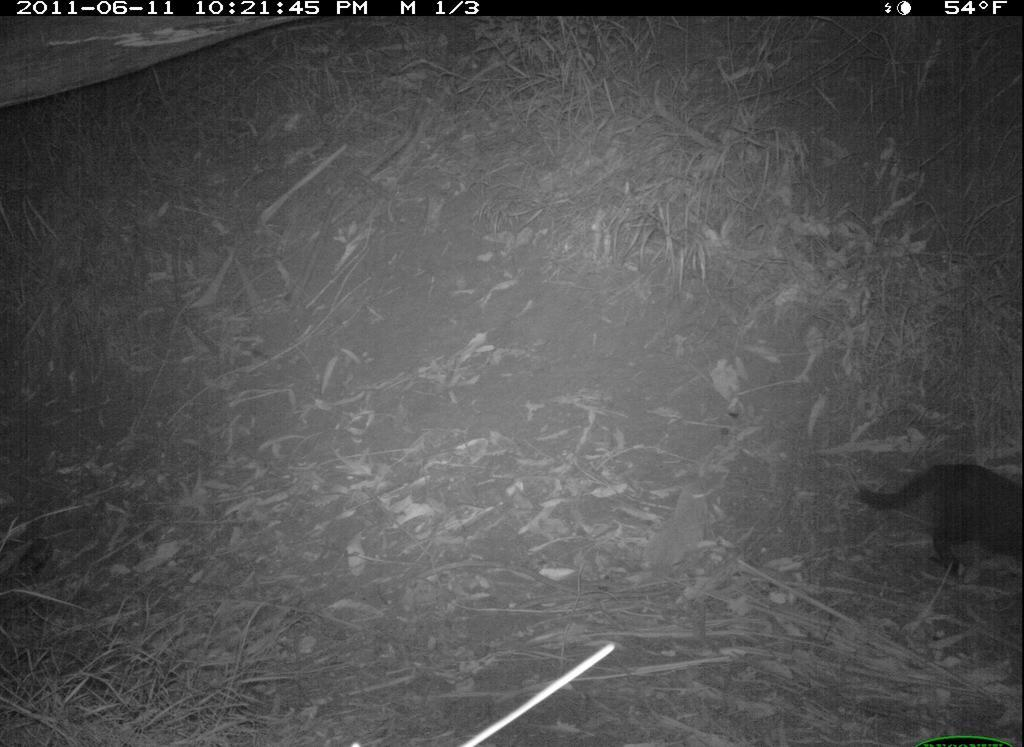cat: (847, 451, 1024, 596)
